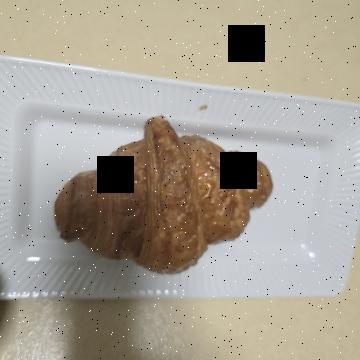croissant: (99, 72, 290, 304)
